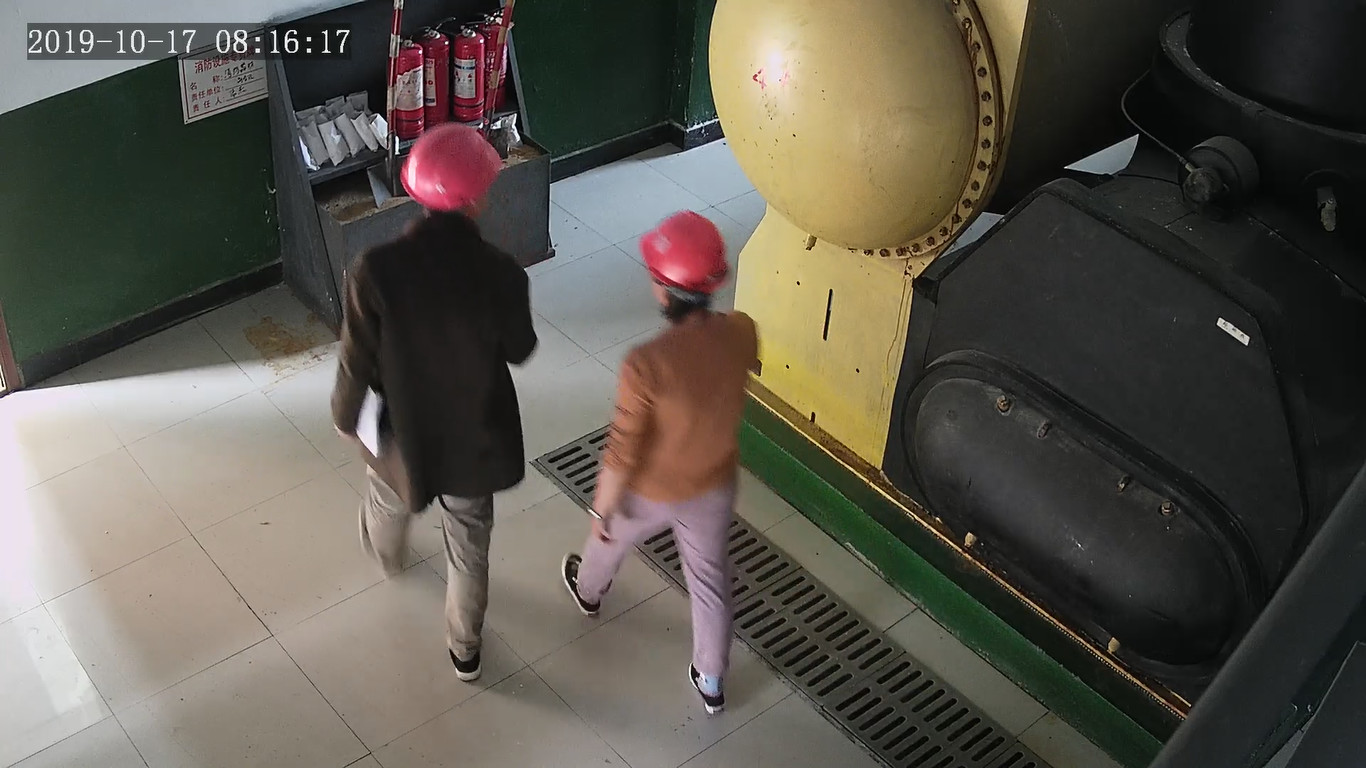helmet: (398, 122, 501, 210), (640, 208, 728, 293)
